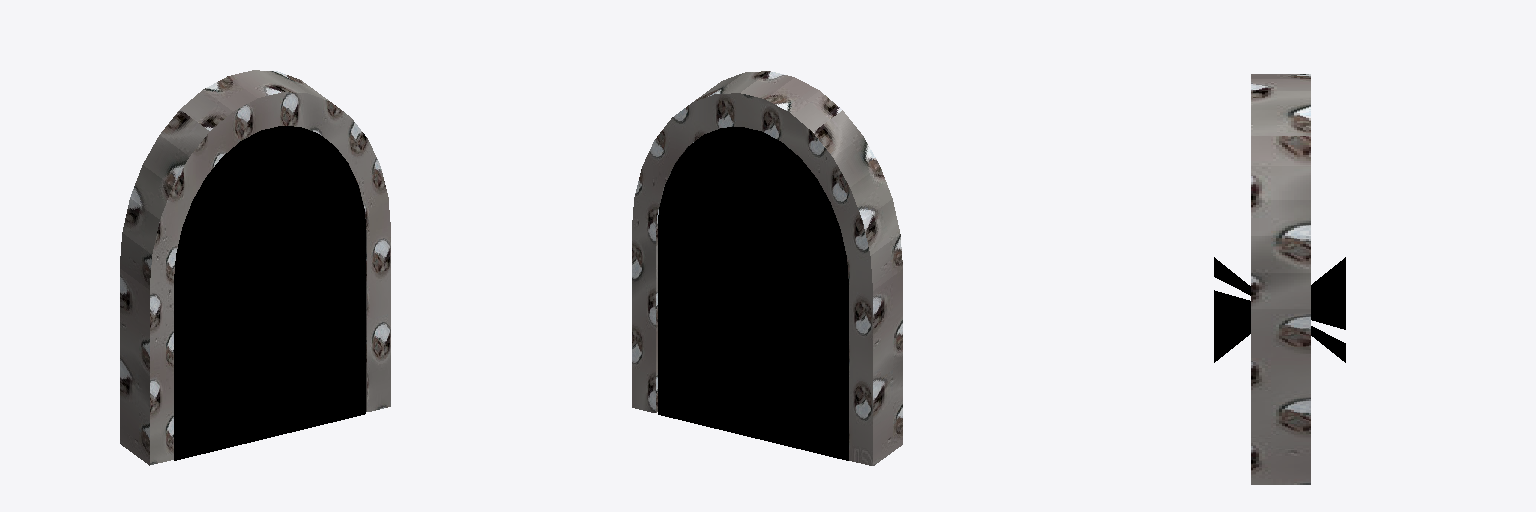
The picture shows the model from 3 angles: view 1: azimuth 30°, elevation 25°; view 2: azimuth 150°, elevation 25°; view 3: azimuth 270°, elevation 25°; orthographic projection.
Parts seen in each view (by area): view 1: polySurface3; view 2: polySurface3; view 3: polySurface3.
Part boxes in pixels (x1,y1,x2,y2): polySurface3: (120, 70, 390, 465); polySurface3: (632, 71, 902, 465); polySurface3: (1214, 74, 1345, 484).
Bounding box in the file's own units: 14.75 × 19.99 × 6.96.
2 materials, 1 textured.